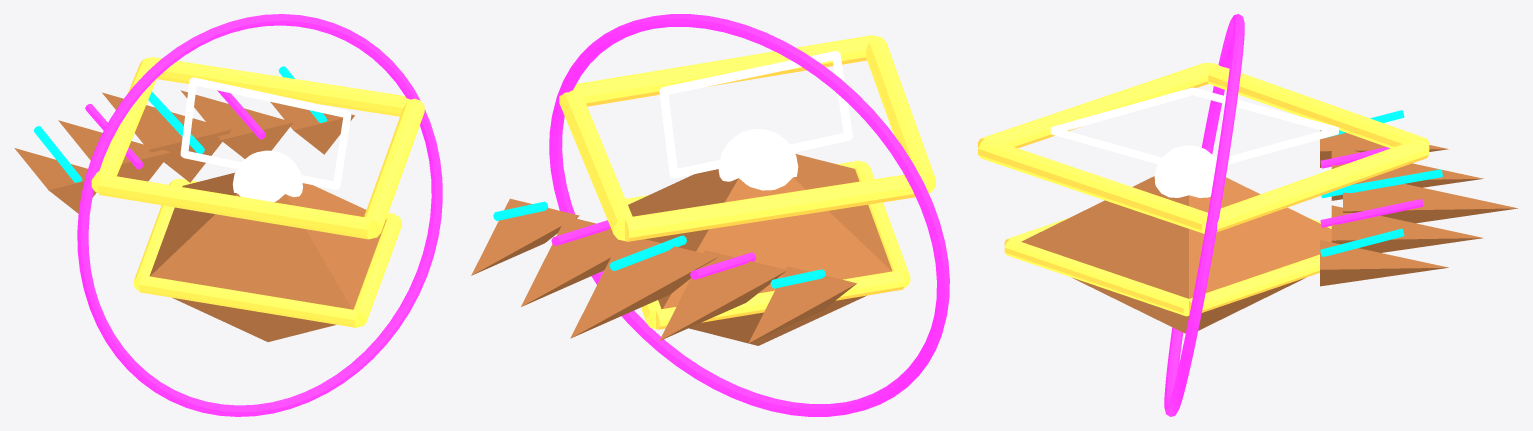
File: fractal_crown.glb
3 renders of one model, left to right at view 1: azimuth 30°, elevation 25°; view 2: azimuth 150°, elevation 25°; view 3: azimuth 270°, elevation 25°, orthographic. The views are drawn at different scales.
Visible parts, largest first — view 1: FractalCrownDarkCore, FractalCrownBrokenHalo, FractalCrownReadabilityDiamondRoute2, FractalCrownReadabilityDiamondRoute0, FractalCrownCoreEdge2, FractalCrownSpike2, FractalCrownReadabilityDiamondRoute1, FractalCrownSpike3, FractalCrownOrangeReactor, FractalCrownReadabilityDiamondRoute3, FractalCrownCoreEdge1, FractalCrownSpike1 (+11 smaller); view 2: FractalCrownDarkCore, FractalCrownBrokenHalo, FractalCrownReadabilityDiamondRoute3, FractalCrownSpike2, FractalCrownReadabilityDiamondRoute1, FractalCrownSpike1, FractalCrownSpike3, FractalCrownReadabilityDiamondRoute0, FractalCrownReadabilityDiamondRoute2, FractalCrownSpike0, FractalCrownOrangeReactor, FractalCrownSpike4 (+11 smaller); view 3: FractalCrownDarkCore, FractalCrownBrokenHalo, FractalCrownReadabilityDiamondRoute1, FractalCrownReadabilityDiamondRoute0, FractalCrownReadabilityDiamondRoute3, FractalCrownReadabilityDiamondRoute2, FractalCrownSpike2, FractalCrownCoreEdge1, FractalCrownSpike3, FractalCrownSpike4, FractalCrownOrangeReactor, FractalCrownCoreEdge0 (+10 smaller).
Part boxes in pixels (x1,y1,x2,y2): FractalCrownDarkCore: (149,172,386,341); FractalCrownBrokenHalo: (77,14,442,416); FractalCrownReadabilityDiamondRoute2: (98,175,370,239); FractalCrownReadabilityDiamondRoute0: (150,57,412,116); FractalCrownCoreEdge2: (139,276,358,327); FractalCrownSpike2: (102,92,231,182); FractalCrownReadabilityDiamondRoute1: (364,98,424,238); FractalCrownSpike3: (180,90,293,158); FractalCrownOrangeReactor: (232,150,302,202); FractalCrownReadabilityDiamondRoute3: (91,57,157,192); FractalCrownCoreEdge1: (353,214,401,327); FractalCrownSpike1: (58,120,170,181); FractalCrownDarkCore: (628,154,892,345); FractalCrownBrokenHalo: (549,14,949,416); FractalCrownReadabilityDiamondRoute3: (625,172,928,241); FractalCrownSpike2: (570,239,717,338); FractalCrownReadabilityDiamondRoute1: (574,35,874,106); FractalCrownSpike1: (659,250,787,340); FractalCrownSpike3: (521,216,619,306); FractalCrownReadabilityDiamondRoute0: (559,88,632,240); FractalCrownReadabilityDiamondRoute2: (866,36,935,192); FractalCrownSpike0: (748,266,856,343); FractalCrownOrangeReactor: (718,129,798,190); FractalCrownSpike4: (471,198,579,275); FractalCrownDarkCore: (1021,176,1331,333); FractalCrownBrokenHalo: (1164,14,1244,416); FractalCrownReadabilityDiamondRoute1: (978,138,1207,233); FractalCrownReadabilityDiamondRoute0: (1216,138,1429,232); FractalCrownReadabilityDiamondRoute3: (1208,63,1429,148); FractalCrownReadabilityDiamondRoute2: (978,62,1208,148); FractalCrownSpike2: (1343,177,1517,223); FractalCrownCoreEdge1: (1004,239,1188,316); FractalCrownSpike3: (1331,205,1482,252); FractalCrownSpike4: (1320,240,1448,286); FractalCrownOrangeReactor: (1154,145,1216,197); FractalCrownCoreEdge0: (1189,254,1319,315).
Bounding box in the file's own units: 2.22 × 2.19 × 2.94.
